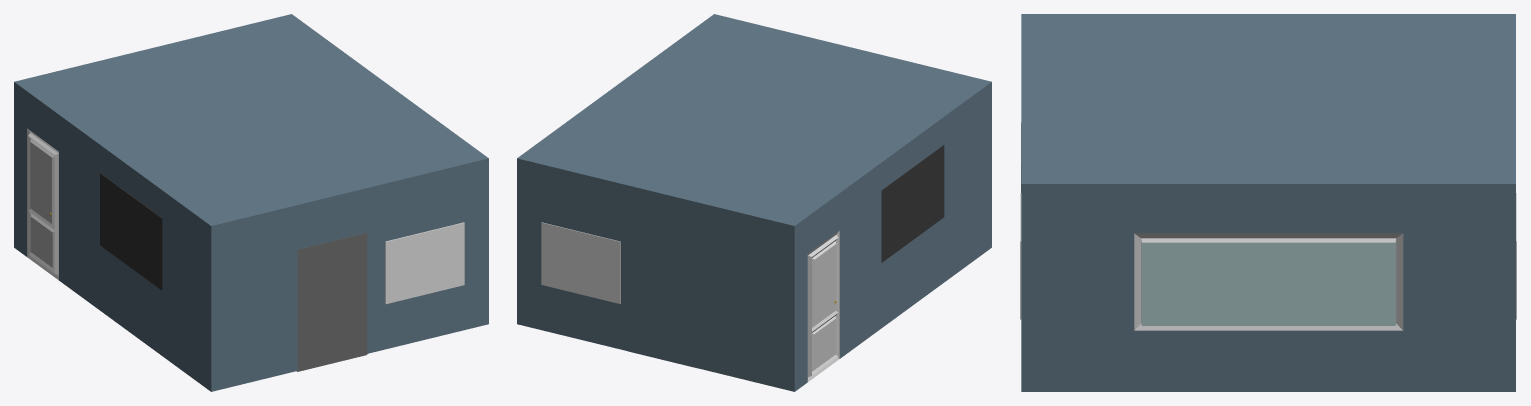
File: Office_Room.fbx
3 views of the same model, side by side, from view 1: azimuth 30°, elevation 25°; view 2: azimuth 150°, elevation 25°; view 3: azimuth 270°, elevation 25° (orthographic). The views are drawn at different scales.
Visible parts, largest first — view 1: Plane, Cube, Plane.004, Plane.002; view 2: Plane, Plane.004, Plane.002; view 3: Plane.
Part boxes in pixels (left/top/right/bottom): Plane: left=14, top=14, right=488, bottom=391; Cube: left=297, top=233, right=367, bottom=371; Plane.004: left=385, top=222, right=464, bottom=304; Plane.002: left=100, top=173, right=162, bottom=290; Plane: left=517, top=14, right=991, bottom=391; Plane.004: left=541, top=222, right=620, bottom=303; Plane.002: left=881, top=145, right=944, bottom=262; Plane: left=1021, top=14, right=1515, bottom=391.
Size of the model in its own units: 953 by 538 by 1152.
